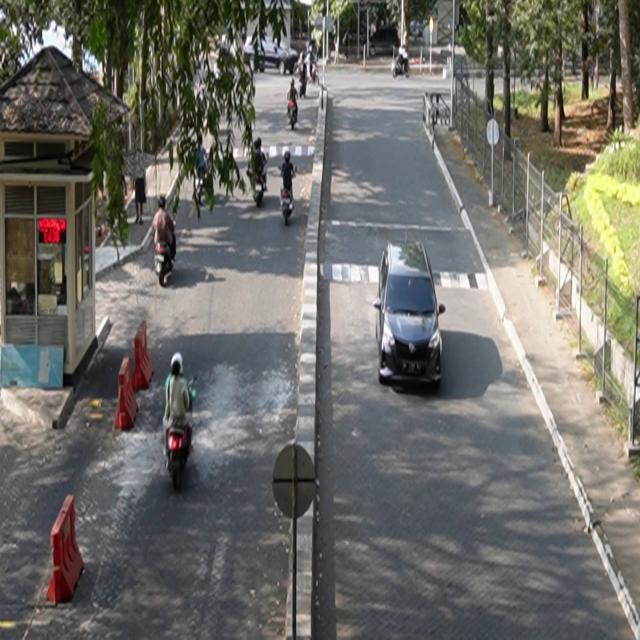car: (374, 240, 447, 389)
